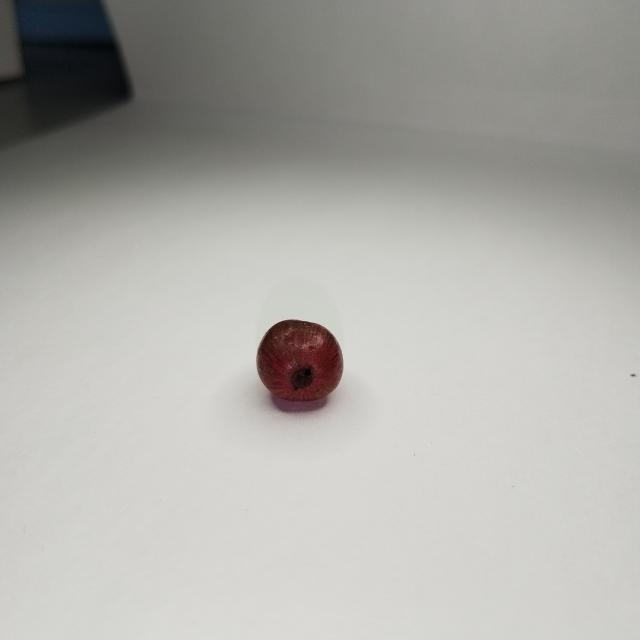Infectado: (257, 320, 342, 402)
